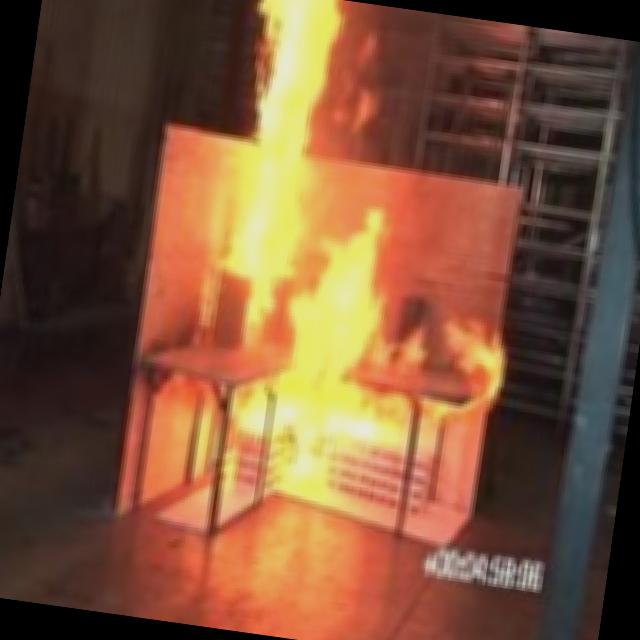fire: (145, 0, 566, 543)
